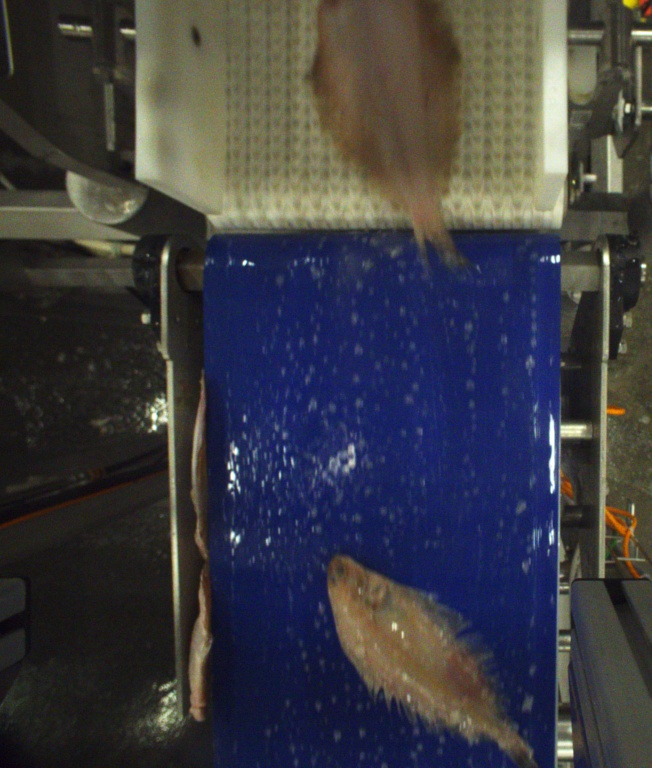WIT: (327, 556, 544, 768)
